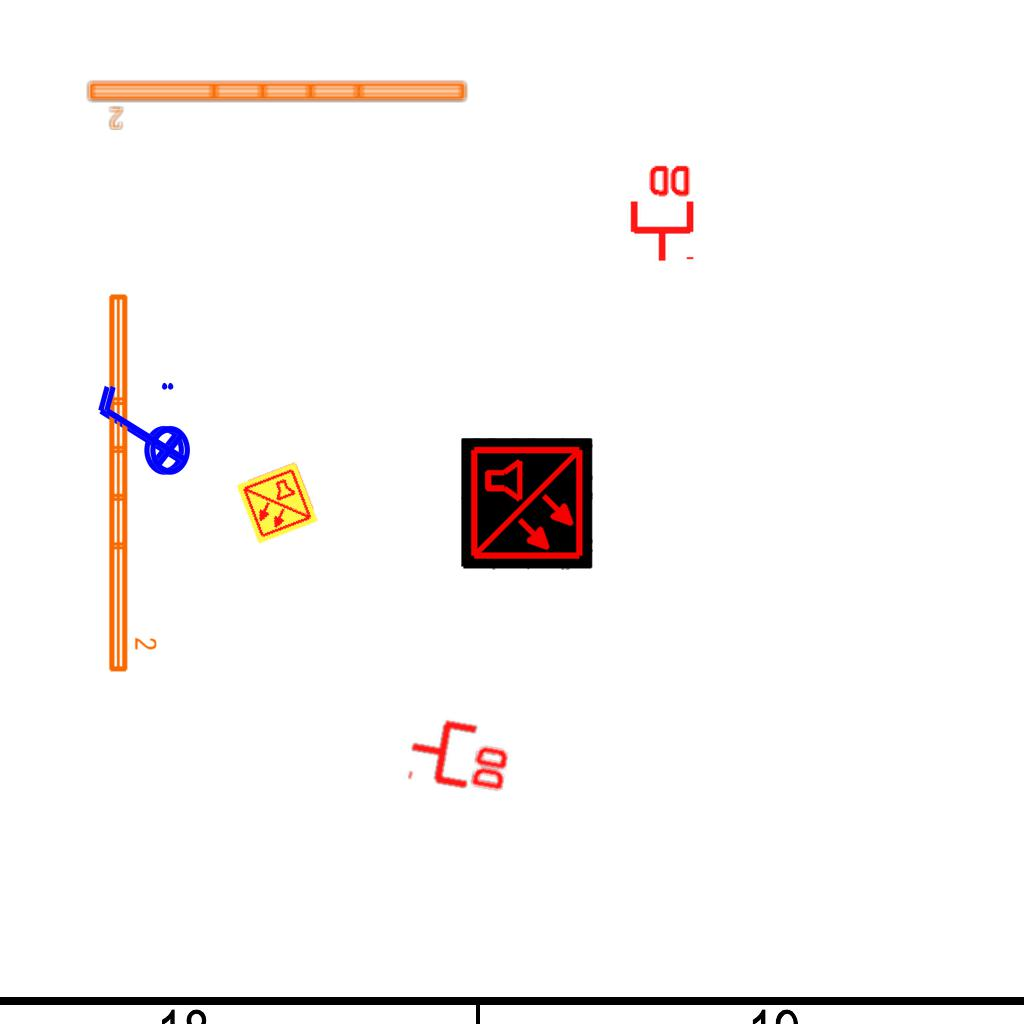Ambulanz_Pendelleuchte_LED: (84, 76, 471, 132), (103, 289, 159, 676)
Ausschalter_beleuchtet: (90, 377, 186, 489), (96, 377, 192, 489)
Datenanschluss_zweifach: (403, 710, 518, 797), (626, 161, 695, 264)
OKW_Multisensormelder_(Kombination_optischer_Rauch-Kahlenmonoxid_Waerme-Melder): (461, 438, 593, 570), (234, 460, 320, 546)
